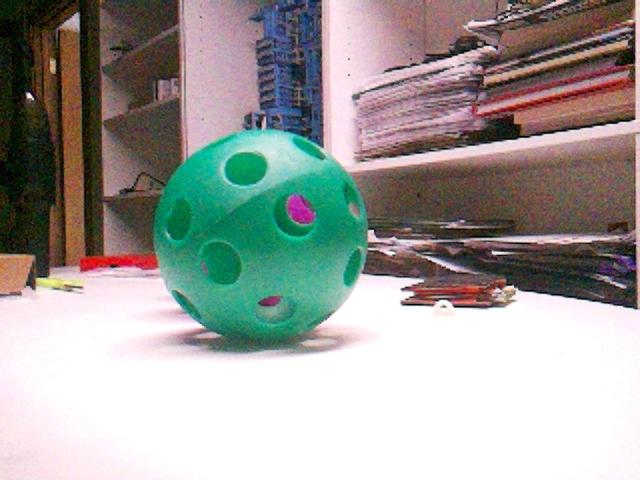Green: (153, 129, 367, 341)
